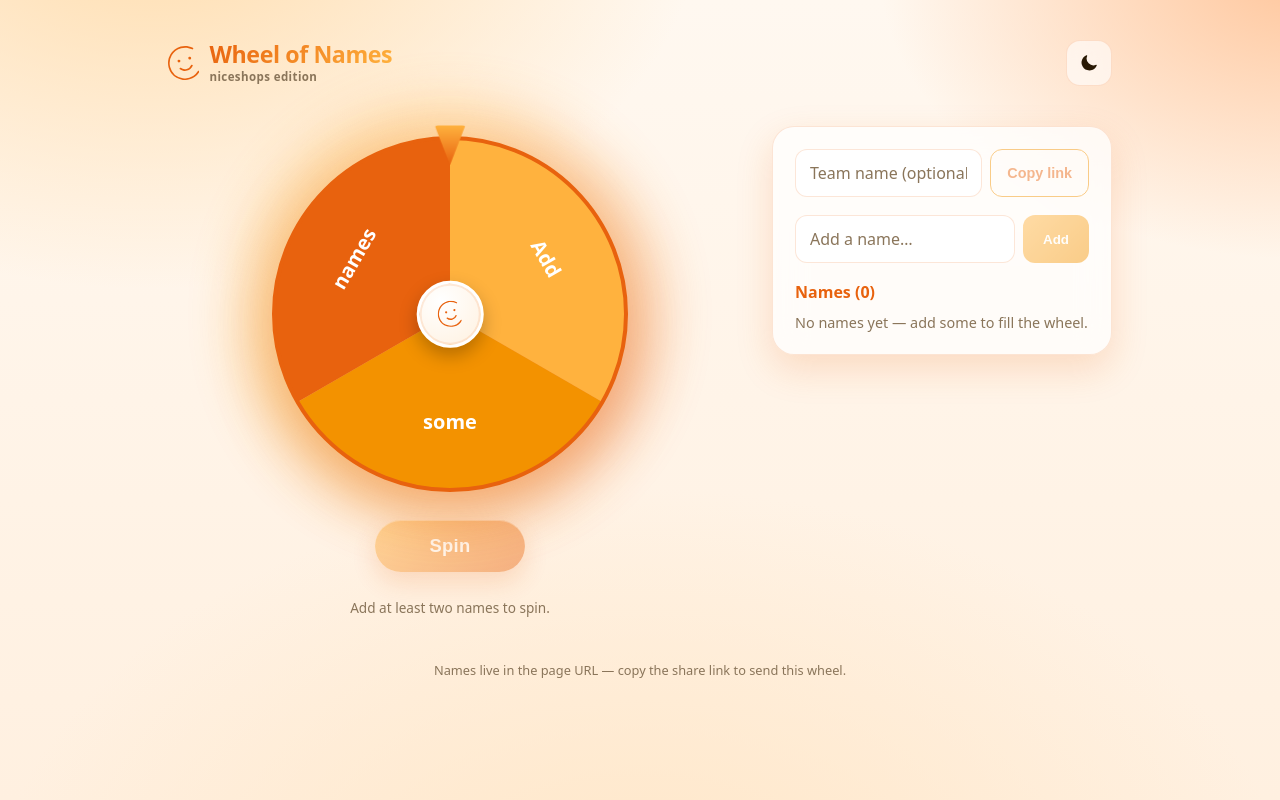
Test case: App › adds names and shows them in the list
The width and height of the screenshot is (1280, 800).
Type "Anna" into the field labelled "Add a name" at (905, 239), box [795,215,1015,263]
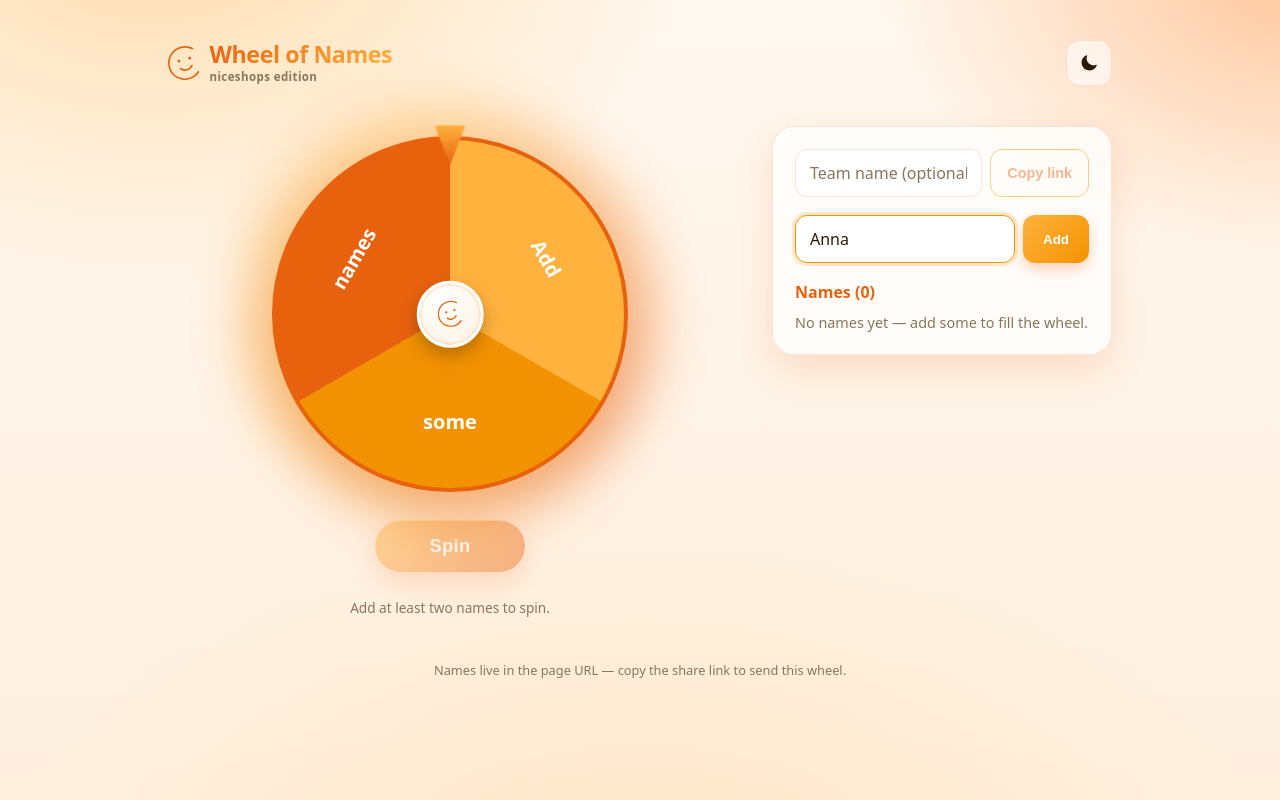
Click the button "Add" at (1056, 239), box [1023,215,1089,263]
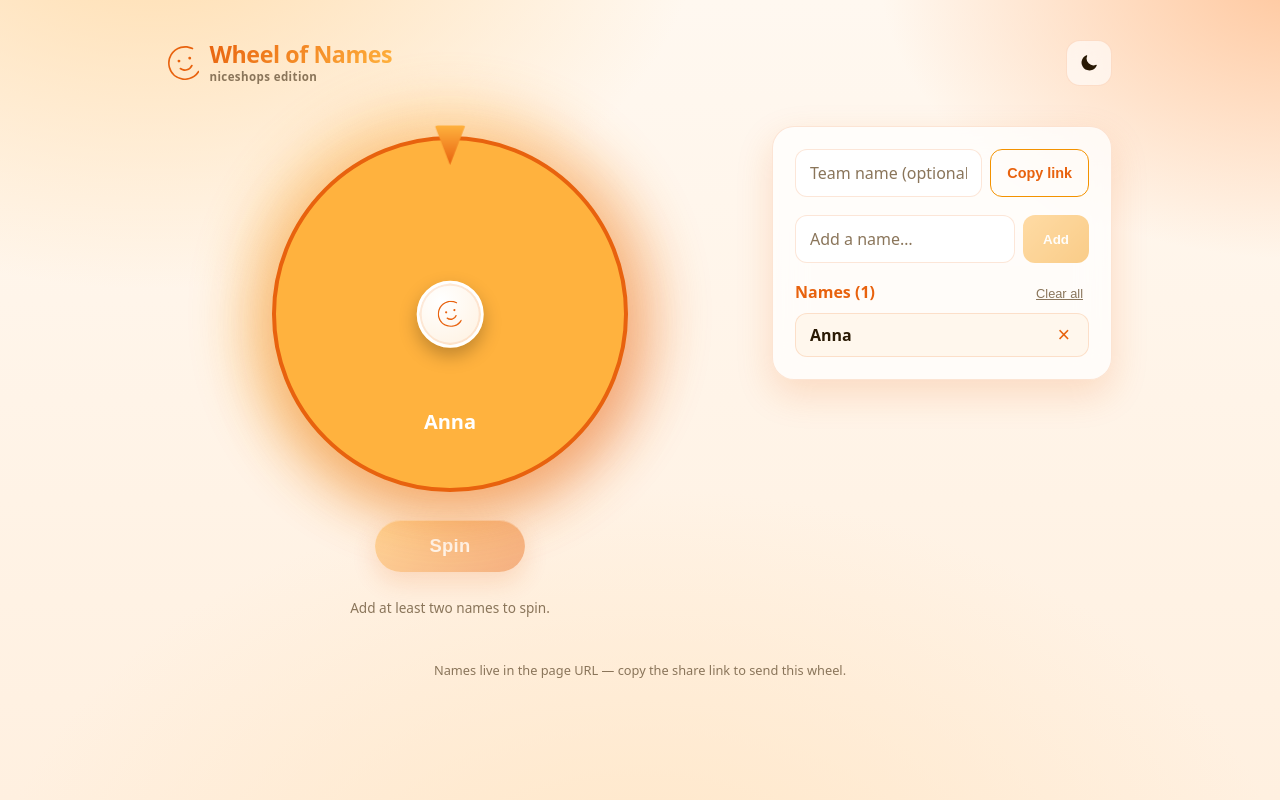
Type "Ben" into the field labelled "Add a name" at (905, 239), box [795,215,1015,263]
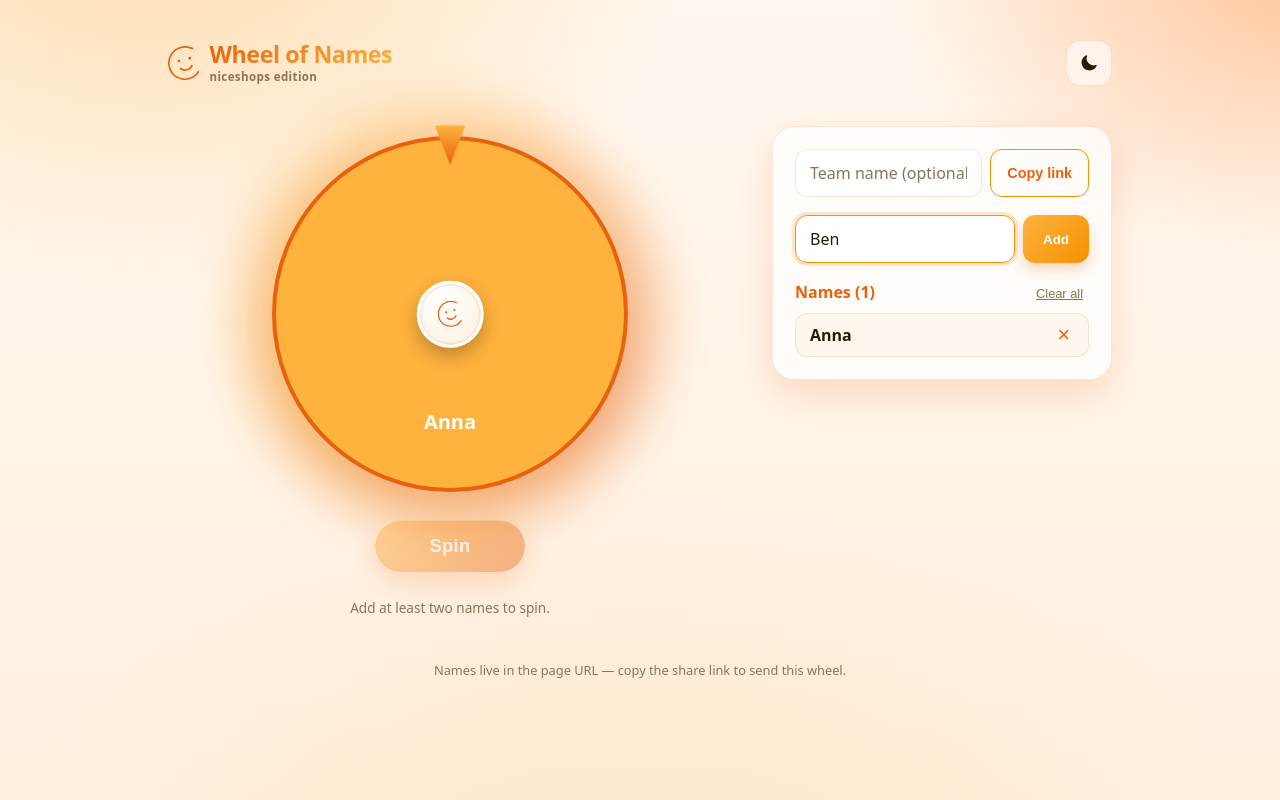
Click the button "Add" at (1056, 239), box [1023,215,1089,263]
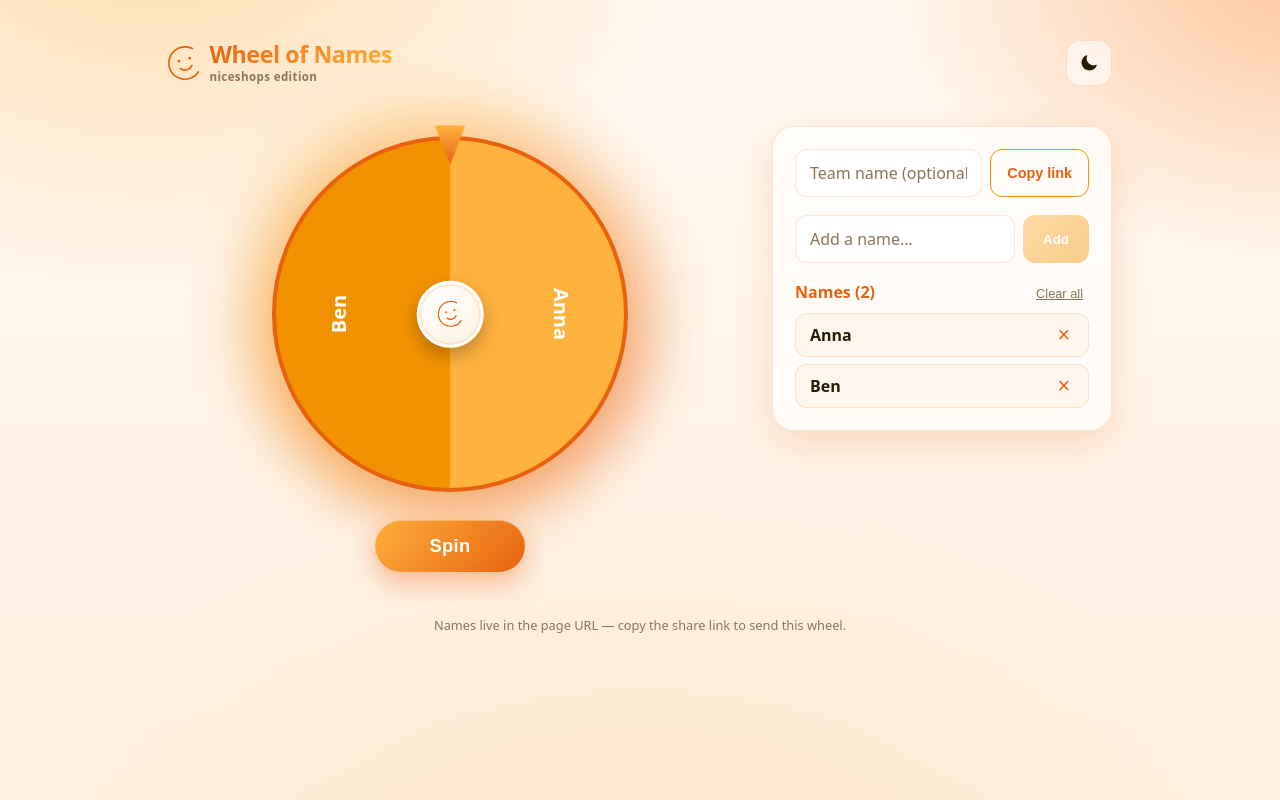
Now the text "Anna" is shown, box [810,324,852,346]
Now the heading "Names (2)" is shown, box [795,281,875,303]
Now the text "Ben" is shown, box [810,375,841,397]
